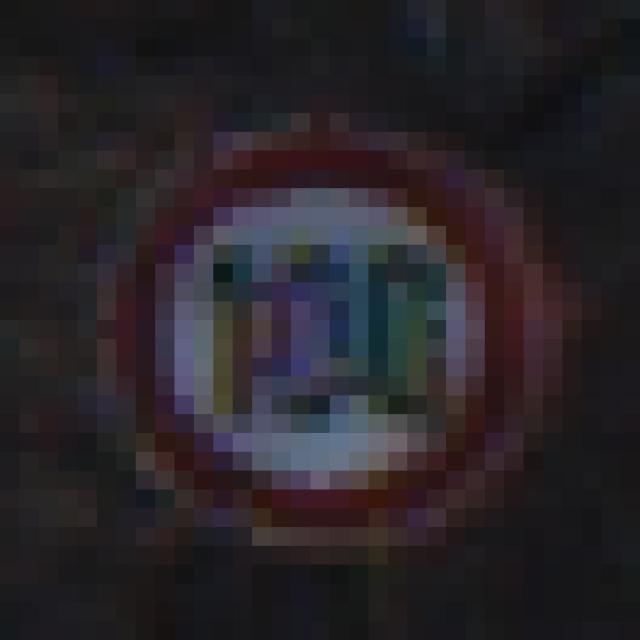Ograniczenie predkosci do 100: (130, 135, 524, 533)
